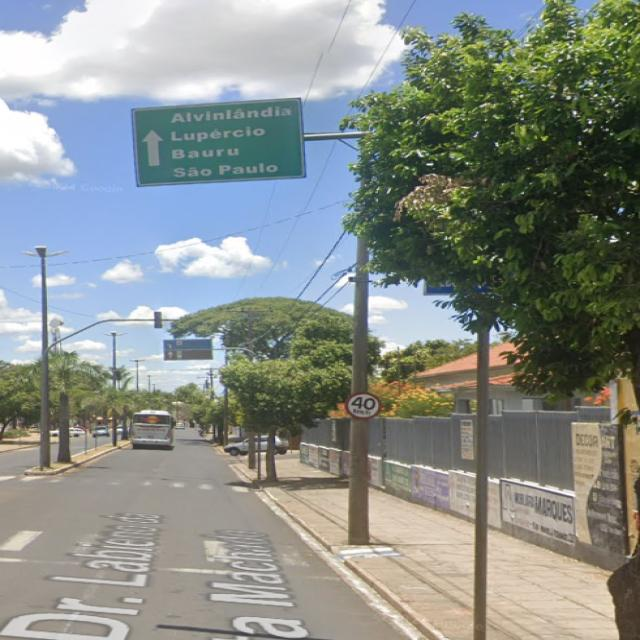indication: (90, 80, 338, 198)
speed limit: (332, 388, 392, 431)
